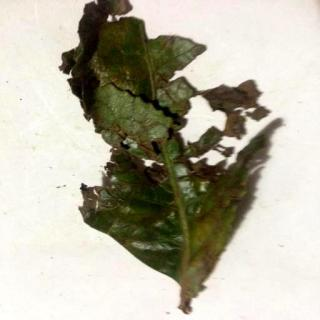Red Leaf Spot: (60, 2, 266, 315)
